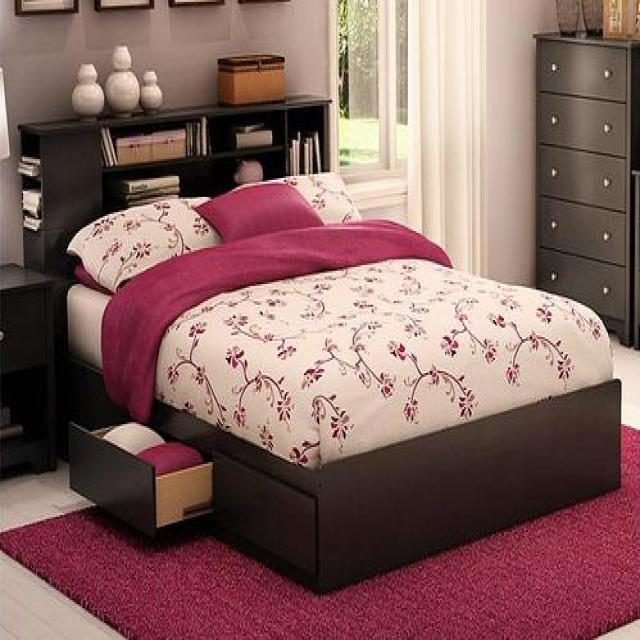bed: (65, 168, 620, 601)
